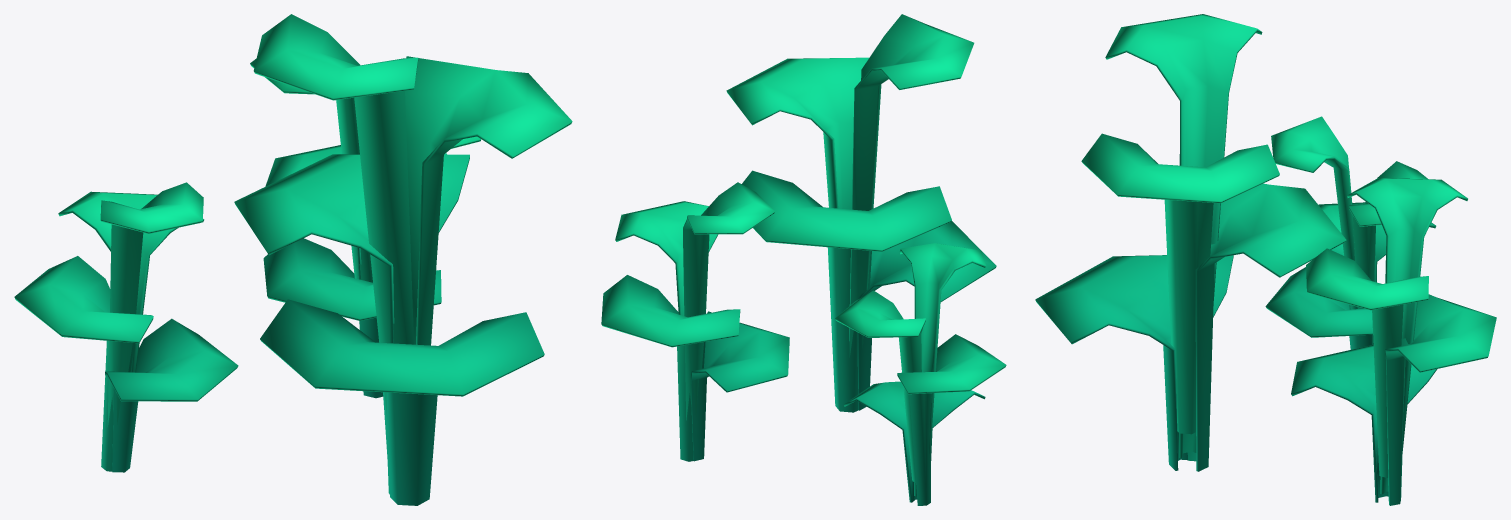
File: swamp_flower_1.fbx
3 views of the same model, side by side, from view 1: azimuth 30°, elevation 25°; view 2: azimuth 150°, elevation 25°; view 3: azimuth 270°, elevation 25° (orthographic). The views are drawn at different scales.
Parts seen in each view (by area): view 1: Swamp Flower 1; view 2: Swamp Flower 1; view 3: Swamp Flower 1.
Boxes of the visible parts, <box> form: Swamp Flower 1: <box>14,14,572,505</box>; Swamp Flower 1: <box>601,14,1006,505</box>; Swamp Flower 1: <box>1035,14,1496,505</box>.
Bounding box in the file's own units: 154 × 154 × 158.
1 material, 1 textured.
